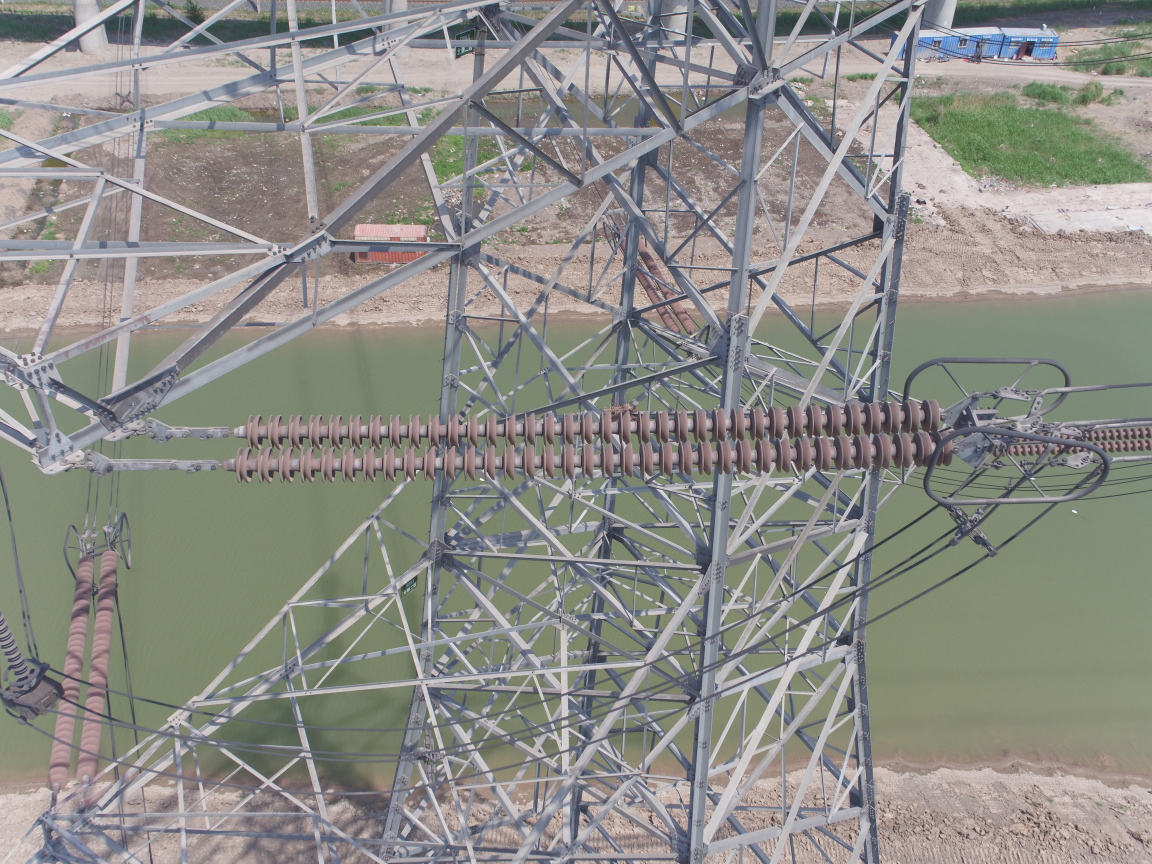insulator: (196, 397, 967, 489)
